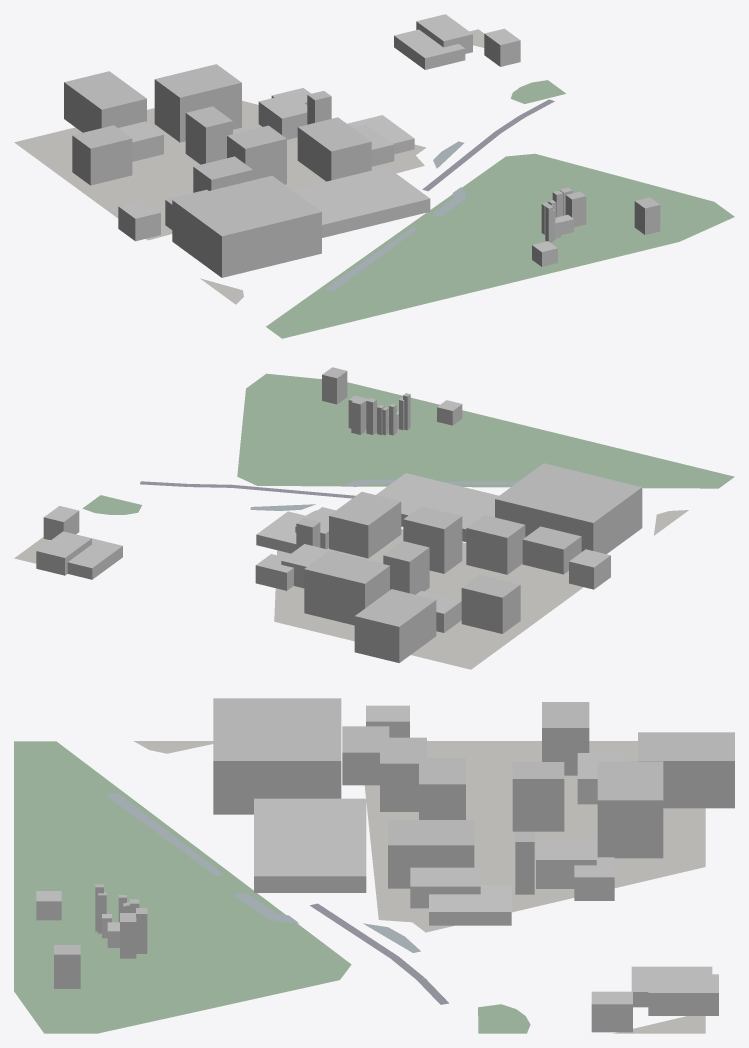
Rendered from 106_107_mid.glb.
3 views of the same model, one above another, from view 1: azimuth 30°, elevation 25°; view 2: azimuth 150°, elevation 25°; view 3: azimuth 270°, elevation 25° (orthographic). The views are drawn at different scales.
Size of the model in its own units: 511 by 47.14 by 521.
